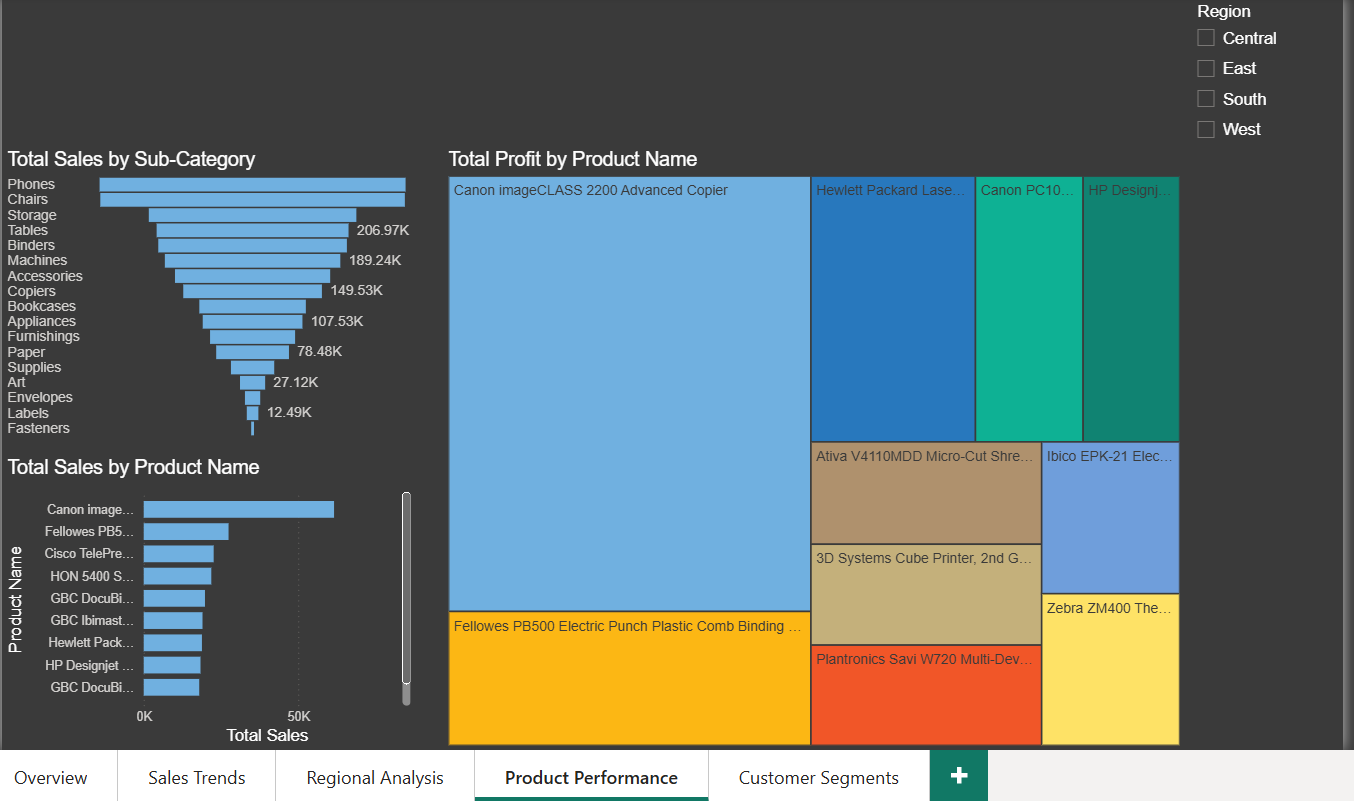

This screenshot's page, from the dashboard's own definition file:
{"tool":"powerbi","page":{"name":"Product Performance","canvas":[1280,720],"ordinal":3},"visuals":[{"type":"clusteredBarChart","fields":{"Category":["Sample - Superstore.Product Name"],"Y":["Sample - Superstore.Total Sales"]},"box":[0,440.3,395.1,279.6],"z":0},{"type":"funnel","fields":{"Category":["Sample - Superstore.Sub-Category"],"Y":["Sample - Superstore.Total Sales"]},"box":[0,145.6,395.1,279.6],"z":2},{"type":"treemap","fields":{"Group":["Sample - Superstore.Product Name"],"Values":["Sample - Superstore.Total Profit"]},"box":[421.8,145.6,708.1,574.2],"z":3},{"type":"slicer","fields":{"Values":["Sample - Superstore.Region"]},"box":[1129.3,0,150.7,197.5],"z":4}]}

Visuals, with their boxes on the page's 1280x720 design canvas (x1, y1, x2, y2). These are canvas units, not pixel positions in the 1354x801 screenshot, which may show the page scaled, cropped or inside an application window:
clusteredBarChart - Sample - Superstore.Product Name x Sample - Superstore.Total Sales: l=0, t=440, r=395, b=720
funnel - Sample - Superstore.Sub-Category x Sample - Superstore.Total Sales: l=0, t=146, r=395, b=425
treemap - Sample - Superstore.Product Name x Sample - Superstore.Total Profit: l=422, t=146, r=1130, b=720
slicer - Sample - Superstore.Region: l=1129, t=0, r=1280, b=198
